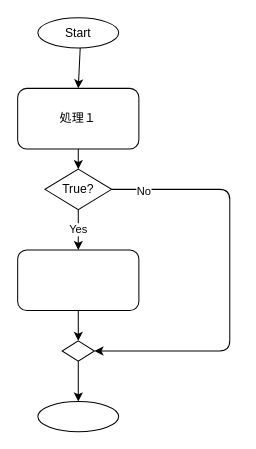
The diagram is 256 pixels wide and 449 high, and some of its shapes have lost their labels. The shapes that lost their labels are listed below. From the top down, each one's centre as x and y in pixels, then its label:
At pixel 78 280: "処理2".
At pixel 78 416: "End".
